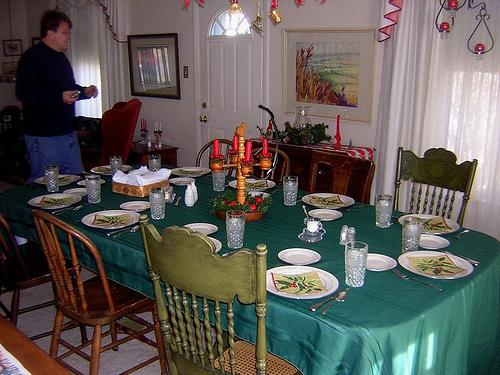tampered: (249, 106, 278, 180)
